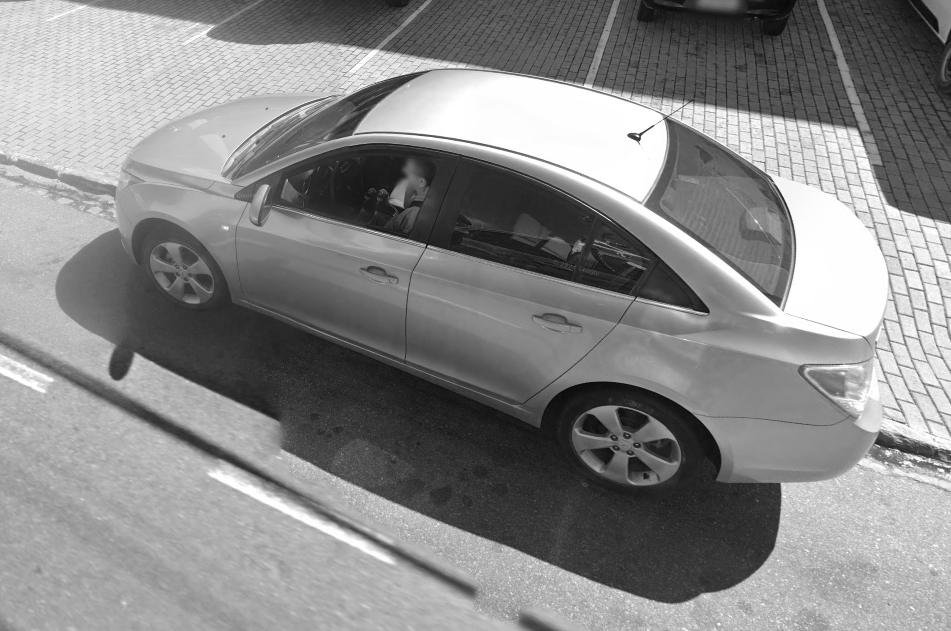car: (110, 63, 893, 499)
